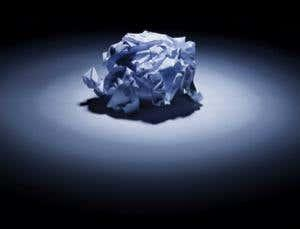paper: (76, 25, 231, 125)
